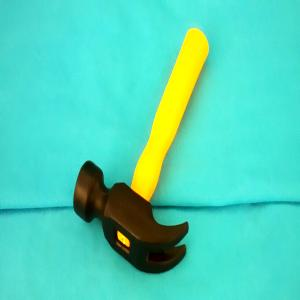martelo: (73, 28, 209, 274)
